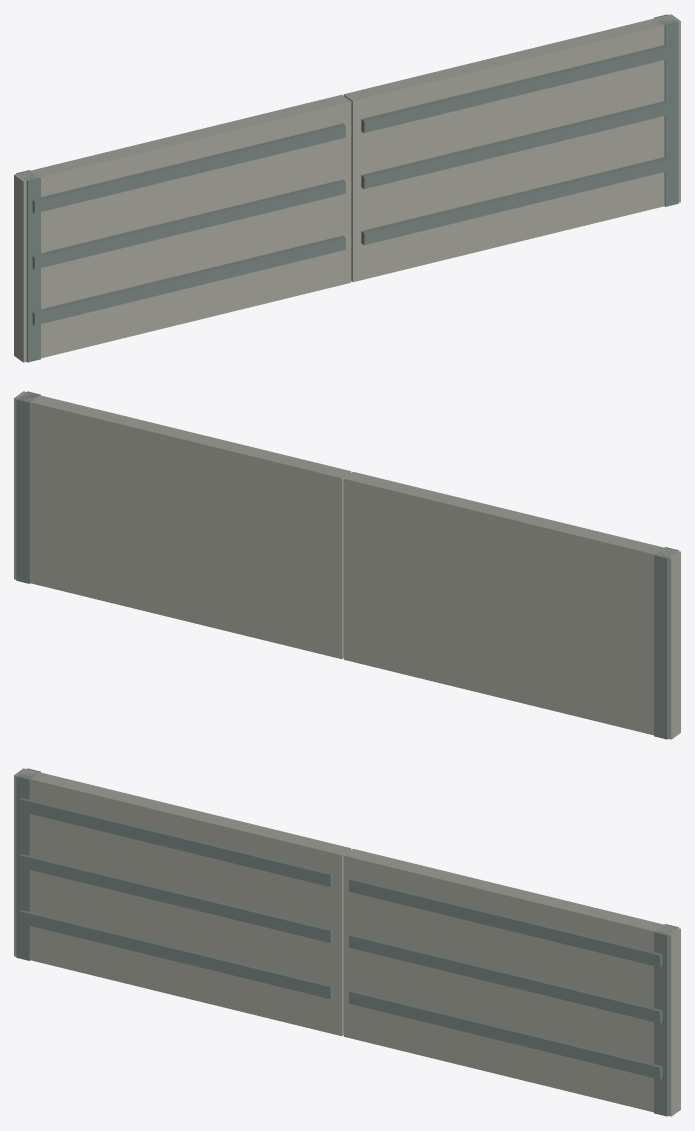
Rendered from SM_PuertaVehiculos_Castellon_v4_LOD1.fbx.
The picture shows the model from 3 angles, top to bottom: view 1: azimuth 30°, elevation 25°; view 2: azimuth 150°, elevation 25°; view 3: azimuth 330°, elevation 25°; orthographic projection.
Visible parts, largest first — view 1: Hoja_O, Hoja_E; view 2: Hoja_O, Hoja_E; view 3: Hoja_E, Hoja_O.
Part boxes in pixels (x1,y1,x2,y2): Hoja_O: (14, 94, 351, 362); Hoja_E: (343, 14, 680, 282); Hoja_O: (343, 471, 680, 739); Hoja_E: (14, 391, 351, 659); Hoja_E: (343, 848, 680, 1116); Hoja_O: (14, 768, 351, 1036).
Size of what is drawn, in the model's own units: 7.98 by 2.1 by 0.28.
